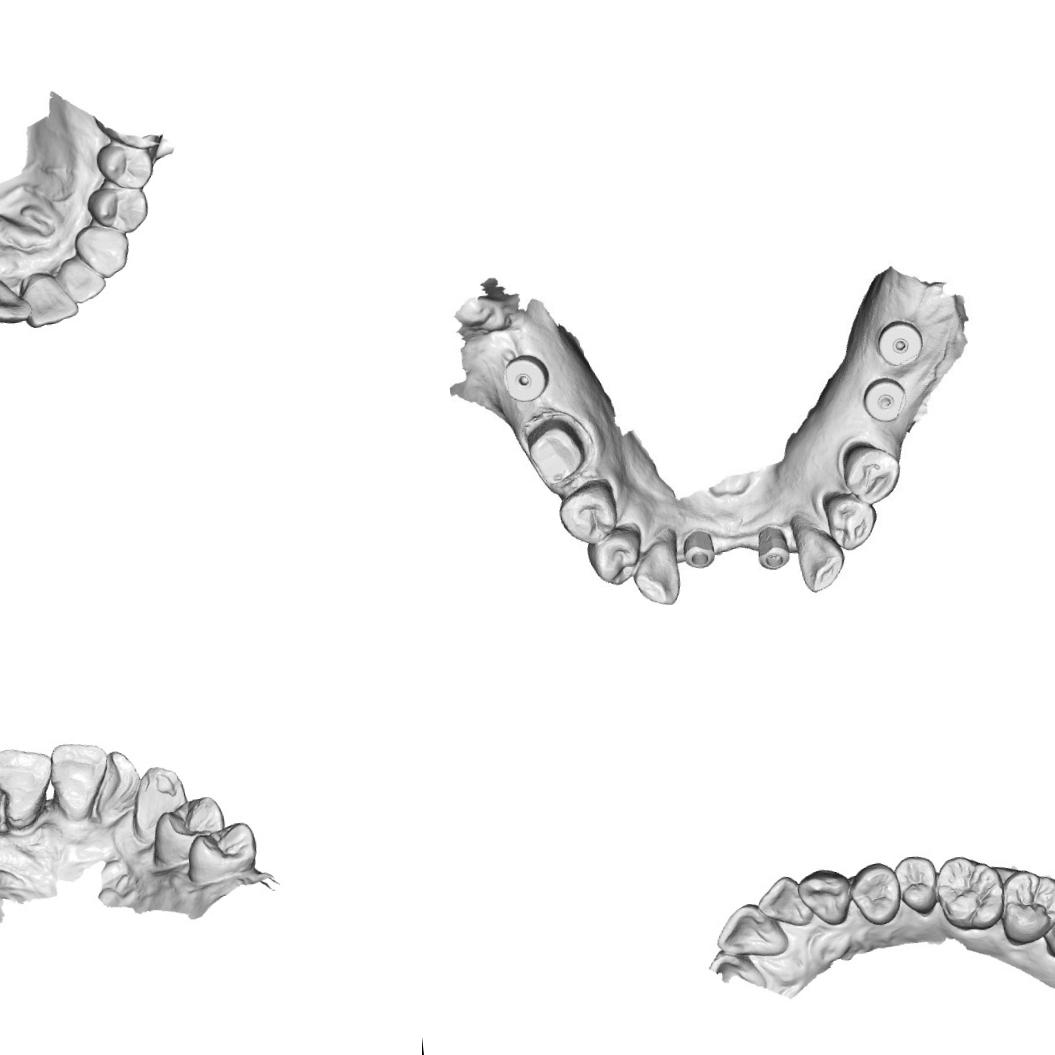canine: (123, 761, 192, 844), (788, 519, 852, 595), (793, 864, 854, 930), (630, 534, 682, 608), (71, 221, 133, 281)
crown: (521, 416, 592, 489)
implant: (498, 354, 552, 407), (877, 321, 922, 364), (861, 376, 904, 420), (754, 527, 792, 571), (682, 534, 719, 574)
incisor: (47, 738, 114, 826), (0, 739, 61, 835), (84, 746, 148, 831), (712, 898, 790, 964), (17, 266, 81, 329), (753, 872, 815, 930), (54, 253, 110, 307), (0, 271, 32, 329)
molar: (932, 851, 1007, 935), (995, 864, 1055, 947), (1040, 889, 1055, 963)
premolar: (145, 792, 227, 870), (181, 819, 262, 889), (840, 438, 906, 508), (846, 858, 904, 928), (562, 482, 622, 548), (84, 180, 152, 238), (93, 136, 157, 194), (826, 486, 880, 554), (587, 526, 640, 586), (892, 854, 940, 917)
